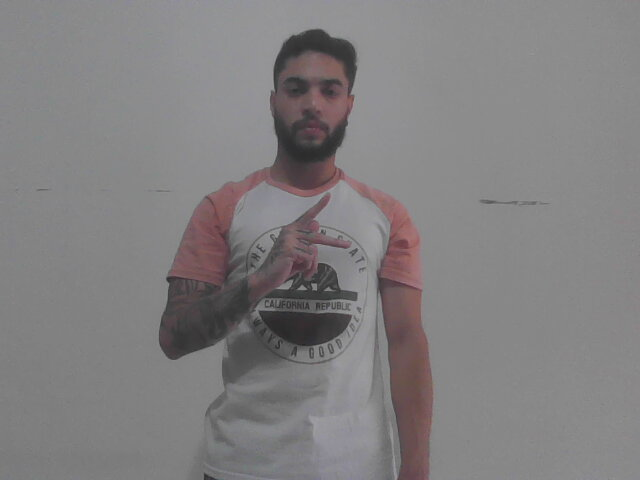k: (253, 190, 352, 292)
